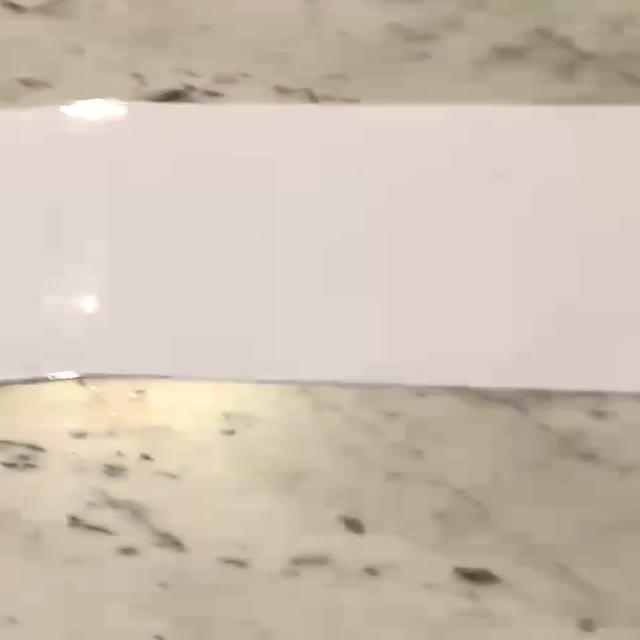road: (1, 100, 635, 391)
